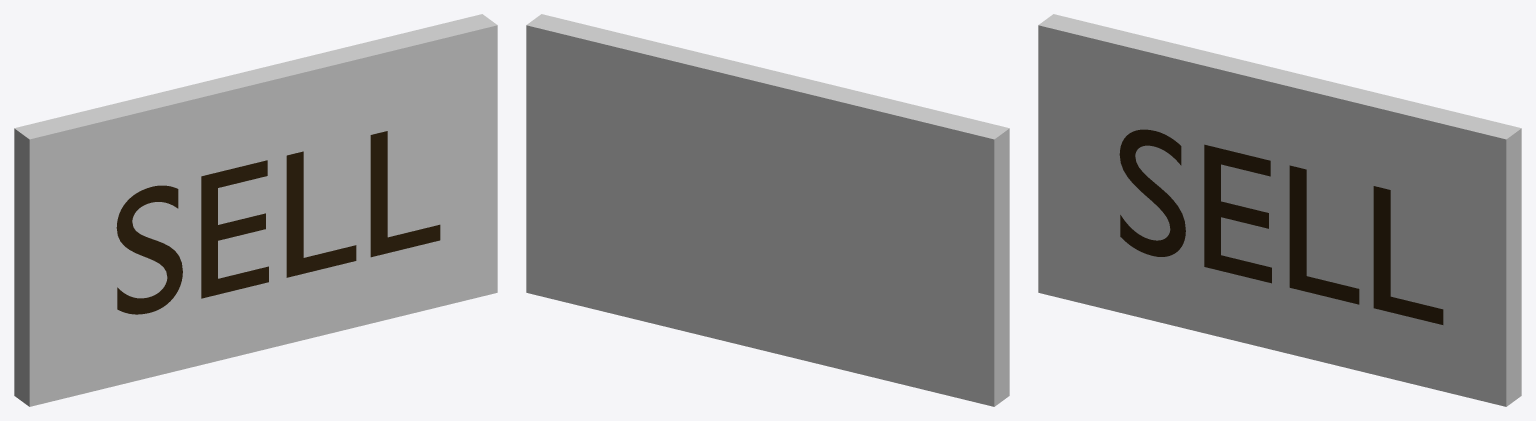
File: menu_sell.gltf
3 renders of one model, left to right at view 1: azimuth 30°, elevation 25°; view 2: azimuth 150°, elevation 25°; view 3: azimuth 330°, elevation 25°, orthographic.
Parts seen in each view (by area): view 1: Cube.009, Text.006; view 2: Cube.009; view 3: Cube.009, Text.006.
Part boxes in pixels (bbox=[...]): Cube.009: bbox=[14, 14, 497, 406]; Text.006: bbox=[116, 131, 440, 314]; Cube.009: bbox=[526, 14, 1009, 406]; Cube.009: bbox=[1038, 14, 1521, 406]; Text.006: bbox=[1119, 129, 1443, 324].
Size of the model in its own units: 0.2811 by 0.1535 by 0.0189.
